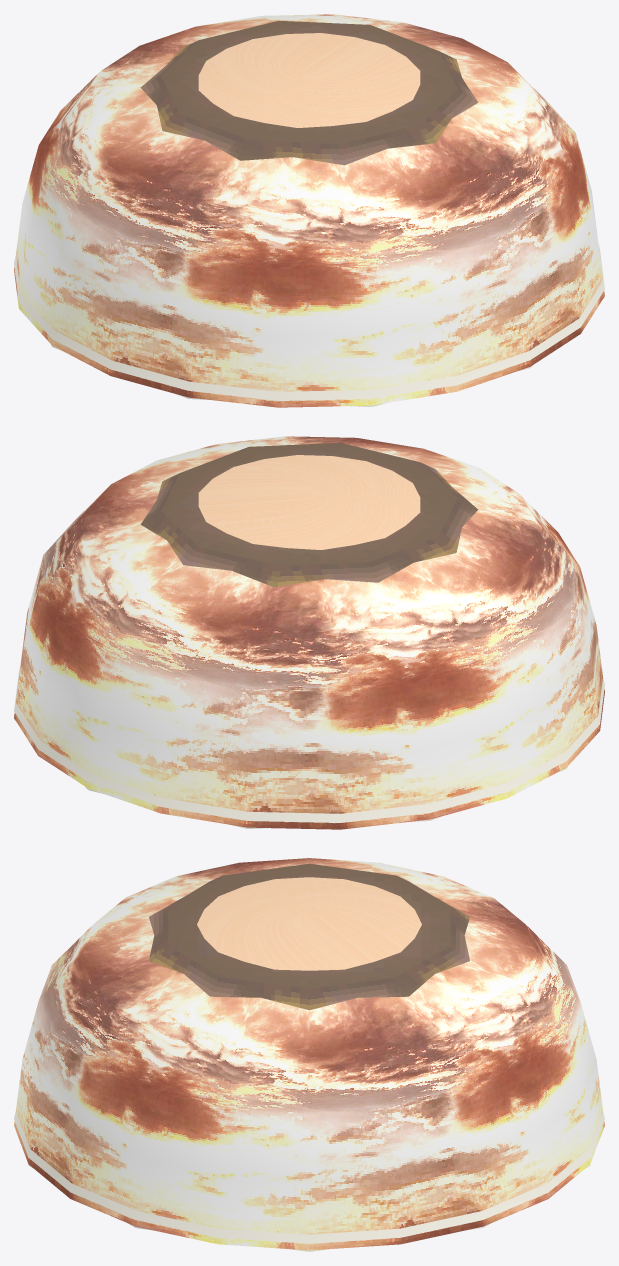
File: stage-gran-sky.glb
3 views of the same model, one above another, from view 1: azimuth 30°, elevation 25°; view 2: azimuth 150°, elevation 25°; view 3: azimuth 270°, elevation 25° (orthographic).
Parts seen in each view (by area): view 1: sky; view 2: sky; view 3: sky.
Boxes of the visible parts, bbox=[...] form: sky: bbox=[14, 14, 604, 407]; sky: bbox=[14, 436, 604, 829]; sky: bbox=[14, 858, 604, 1251].
Size of the model in its own units: 3660 by 1438 by 3660.
Materials: 4 (4 with a texture image).
